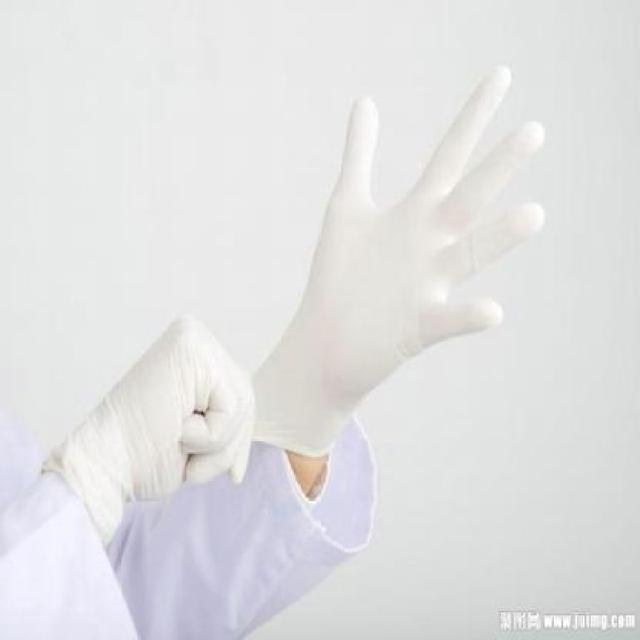hand_glove: (306, 60, 546, 394), (82, 305, 256, 503)
